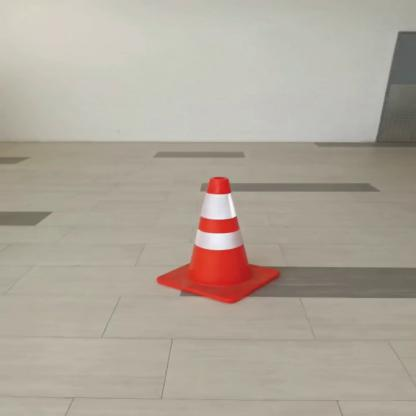cone: (151, 174, 286, 304)
